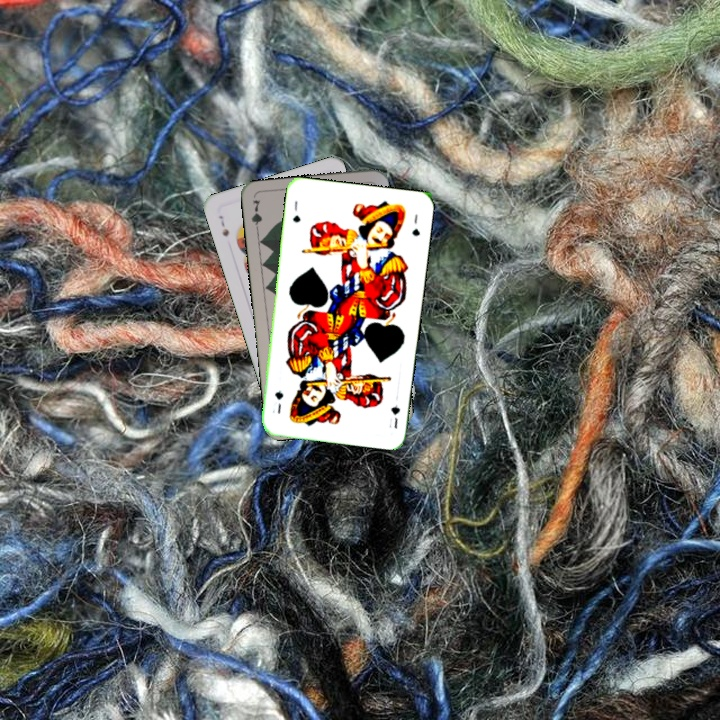G7: (247, 196, 265, 236)
GU: (385, 401, 403, 431), (289, 197, 303, 225)
S7: (214, 211, 231, 239)
